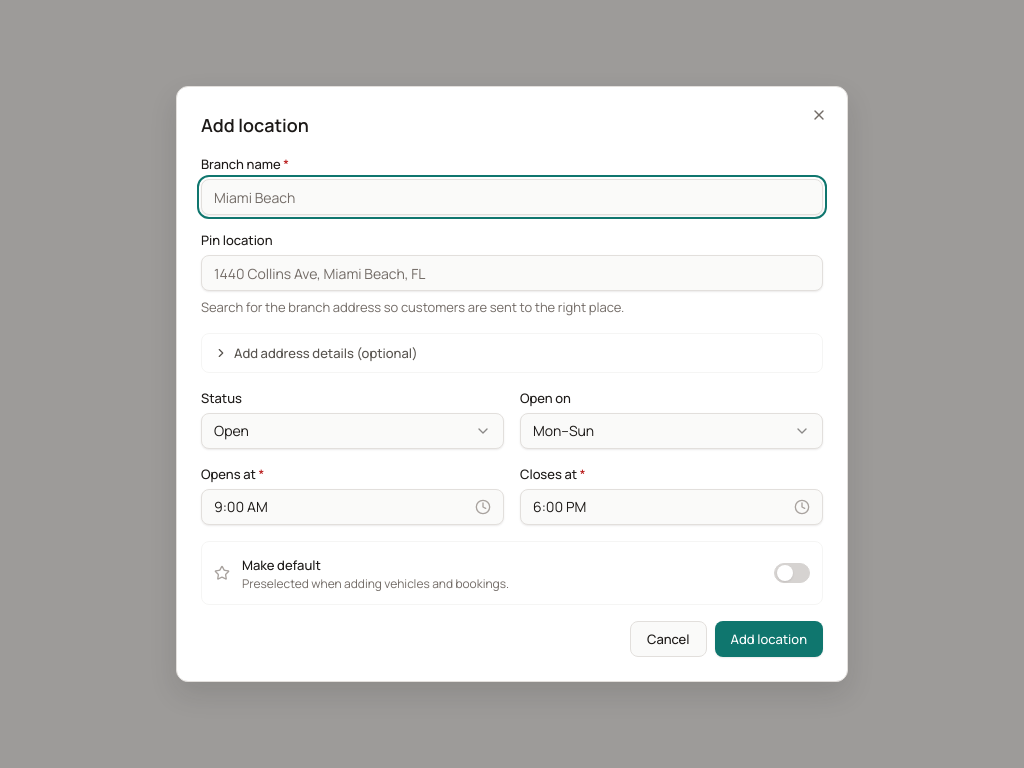
it: LocationDialog without a Maps key › starts collapsed and expands on click
Click the button "Add address details (optional)": (326, 353) [214,342,810,364]
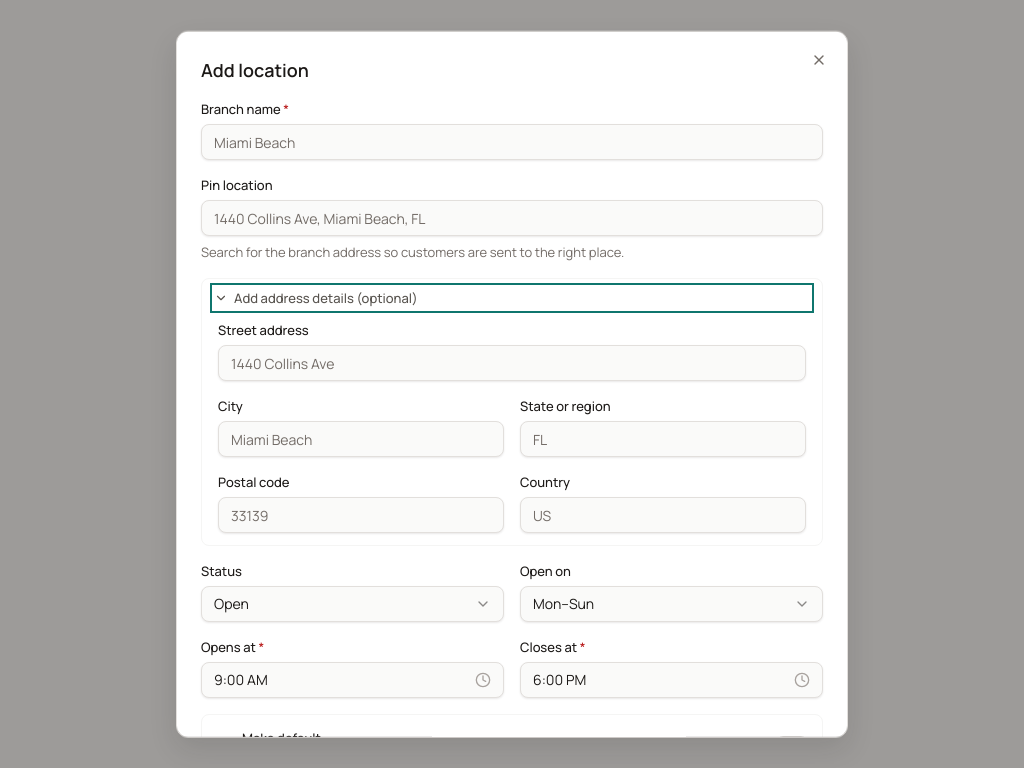
Check: the button "Add address details (optional)" is expanded
Click the button "Add address details (optional)": (326, 298) [214,287,810,309]
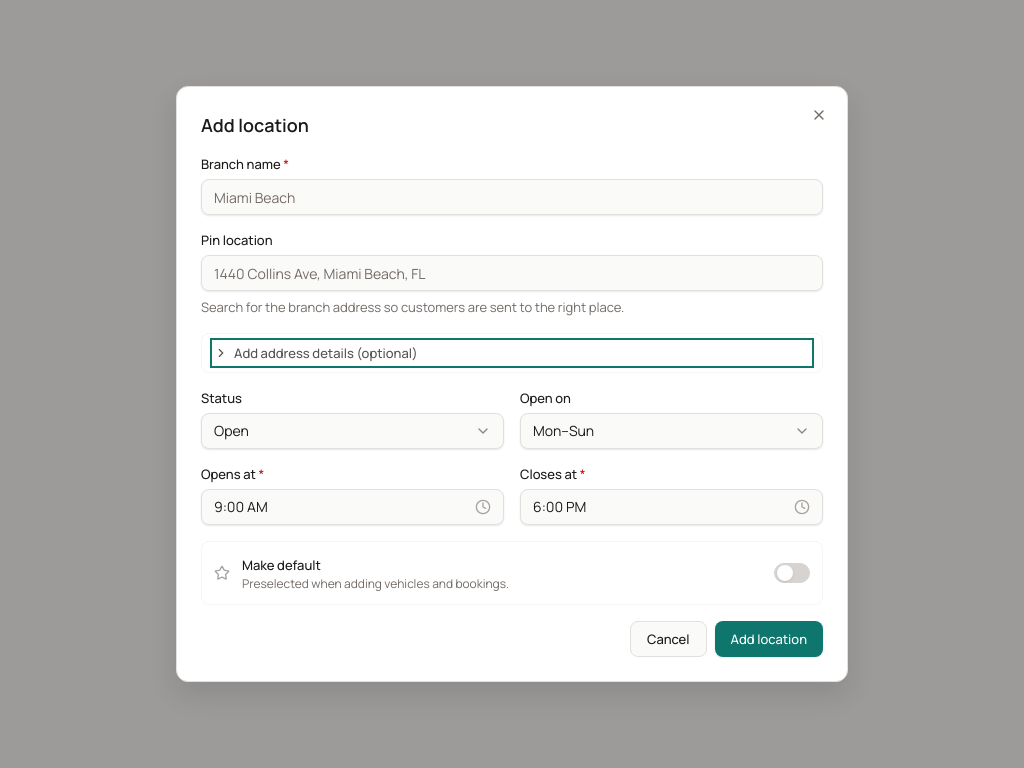
Check: the button "Add address details (optional)" is collapsed, box [214,342,810,364]
